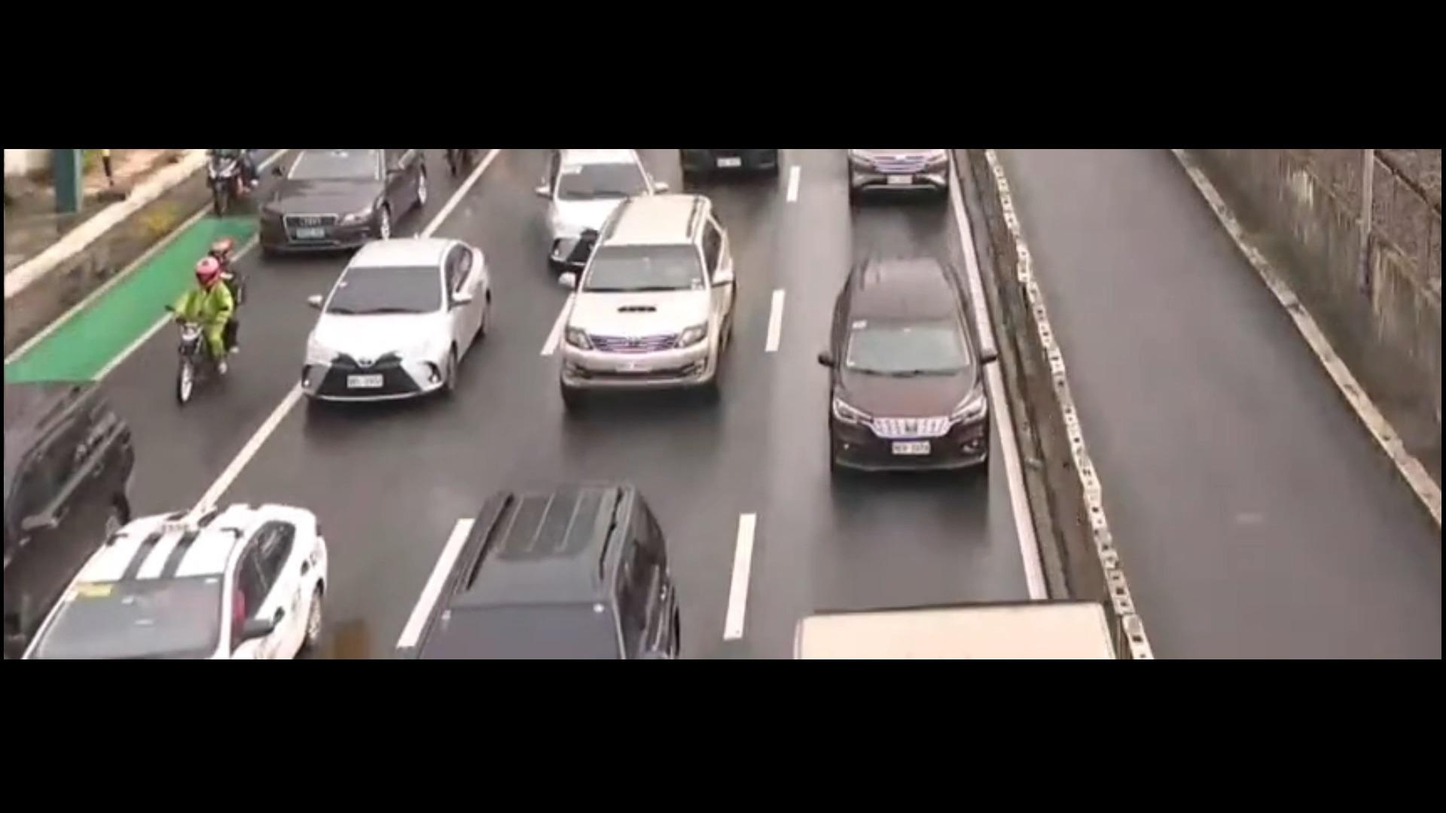Motorcycle: (143, 238, 268, 413)
SUV: (399, 454, 699, 660), (789, 239, 1034, 483), (531, 185, 772, 405), (0, 345, 157, 657)
Sedan: (24, 488, 375, 661), (284, 226, 499, 422), (245, 151, 435, 266), (534, 138, 661, 282)
